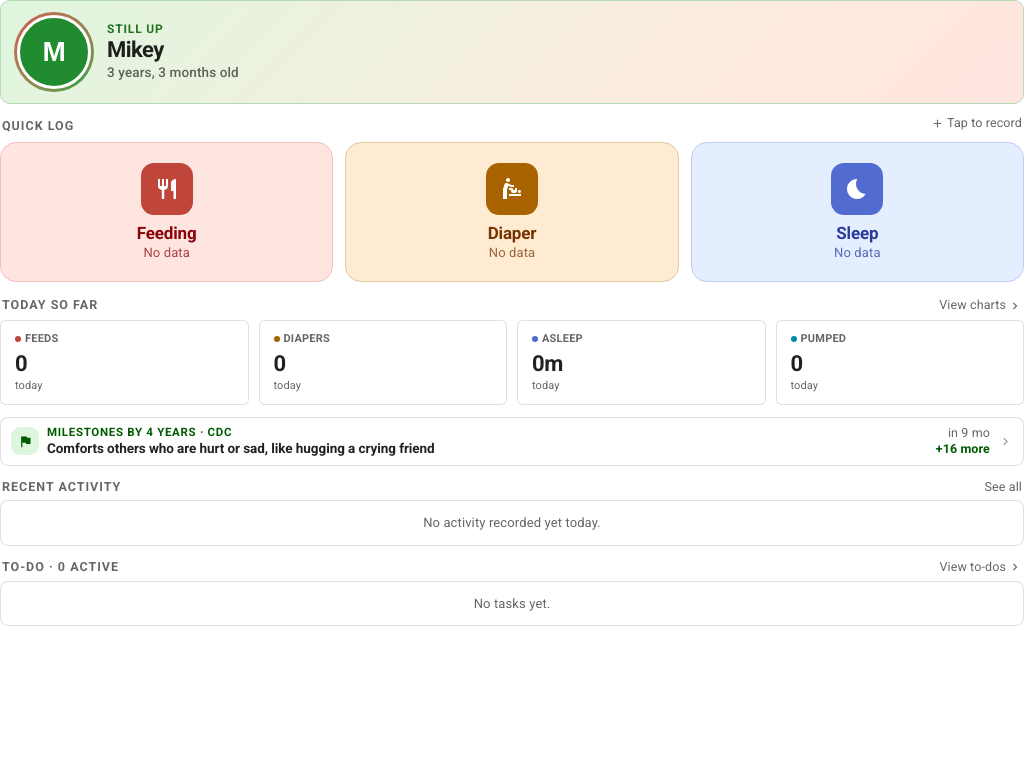
Test: Dashboard – quick action buttons › opens the quick-log feeding dialog when the Feeding button is clicked
Click the button "Feeding No data" at (167, 212), box x1=0 y1=142 x2=333 y2=282
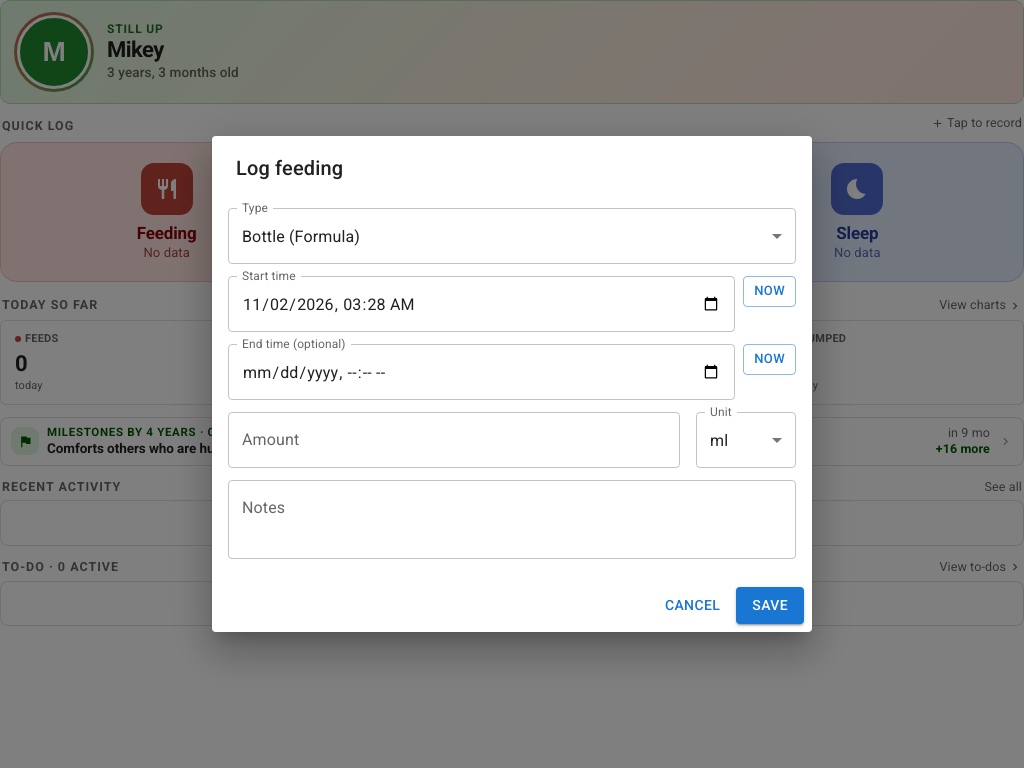
Check: the dialog is shown, box x1=212 y1=136 x2=812 y2=632
Check: the heading "Log feeding" is shown, box x1=236 y1=156 x2=343 y2=180
